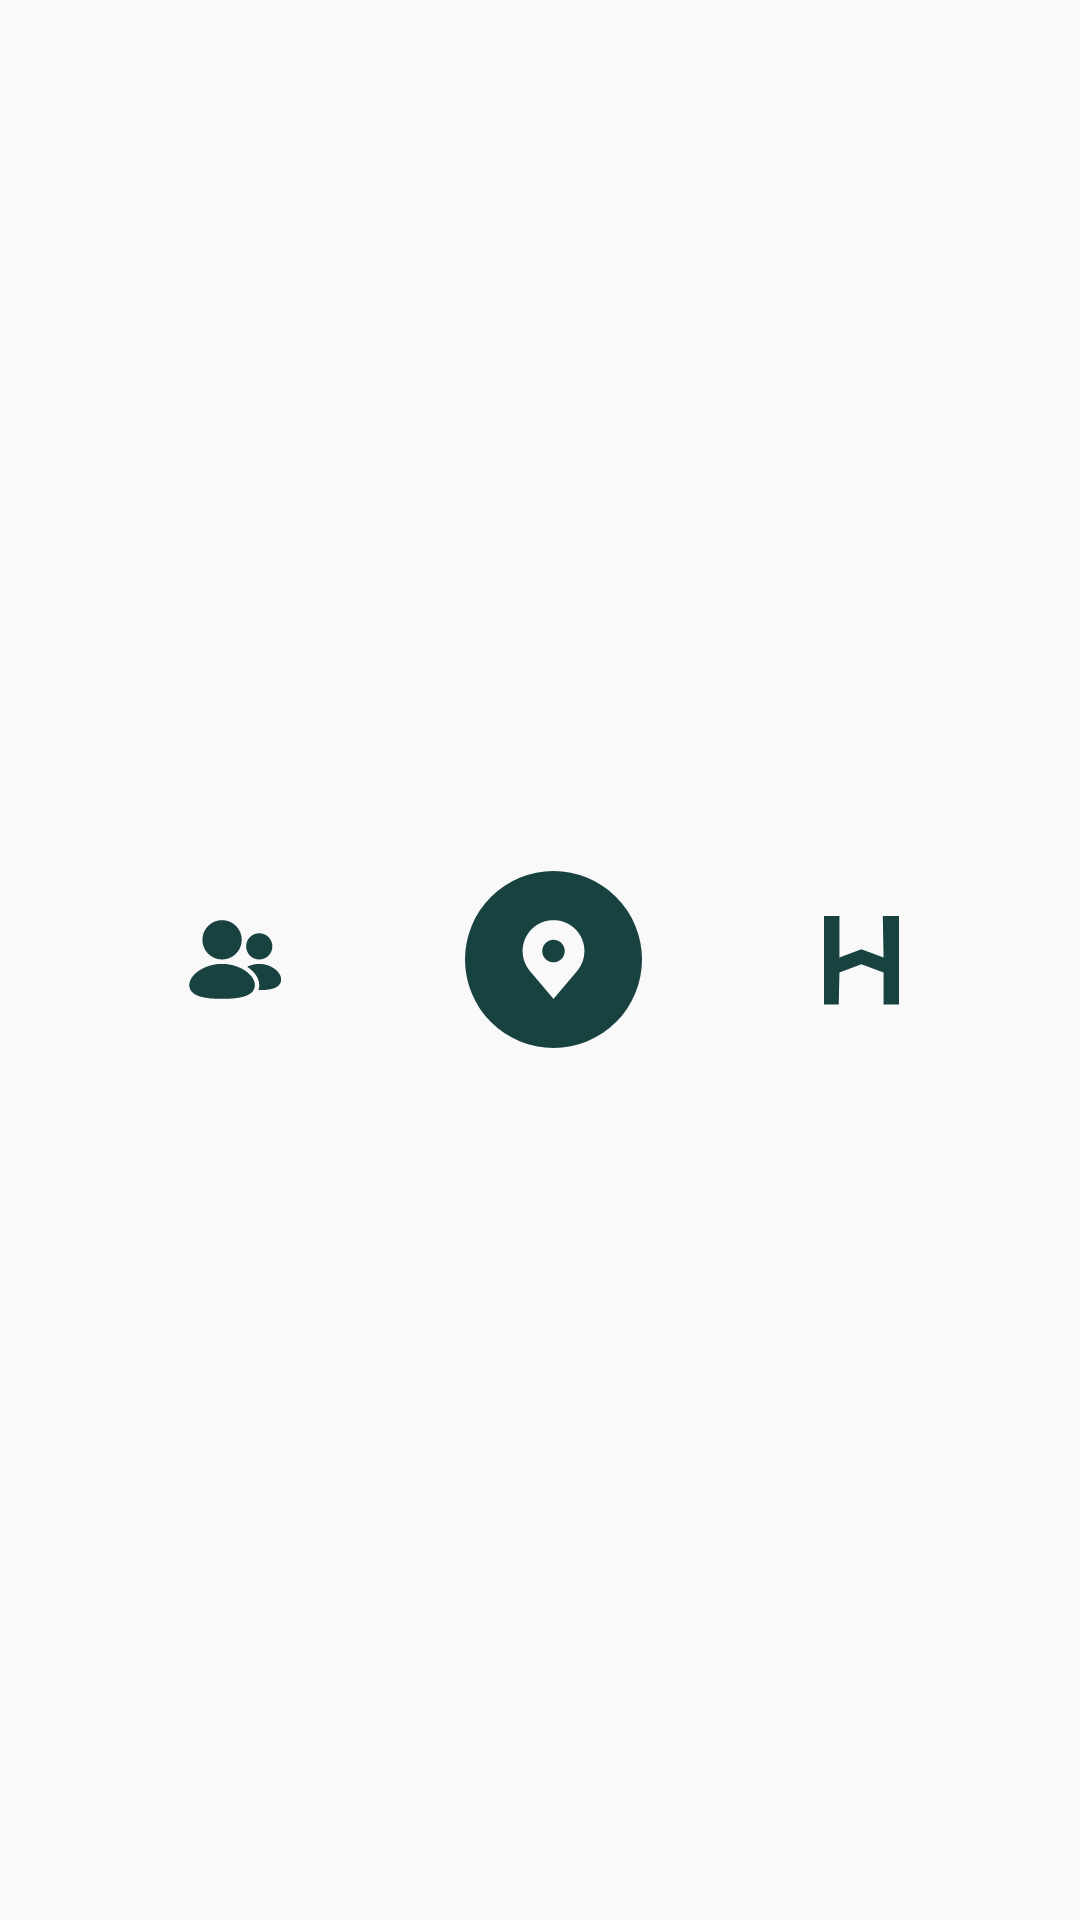

Icons on this 1080x1920 Android screen, each with the point to tap as (x=x, y=y):
find place: (x=553, y=959)
